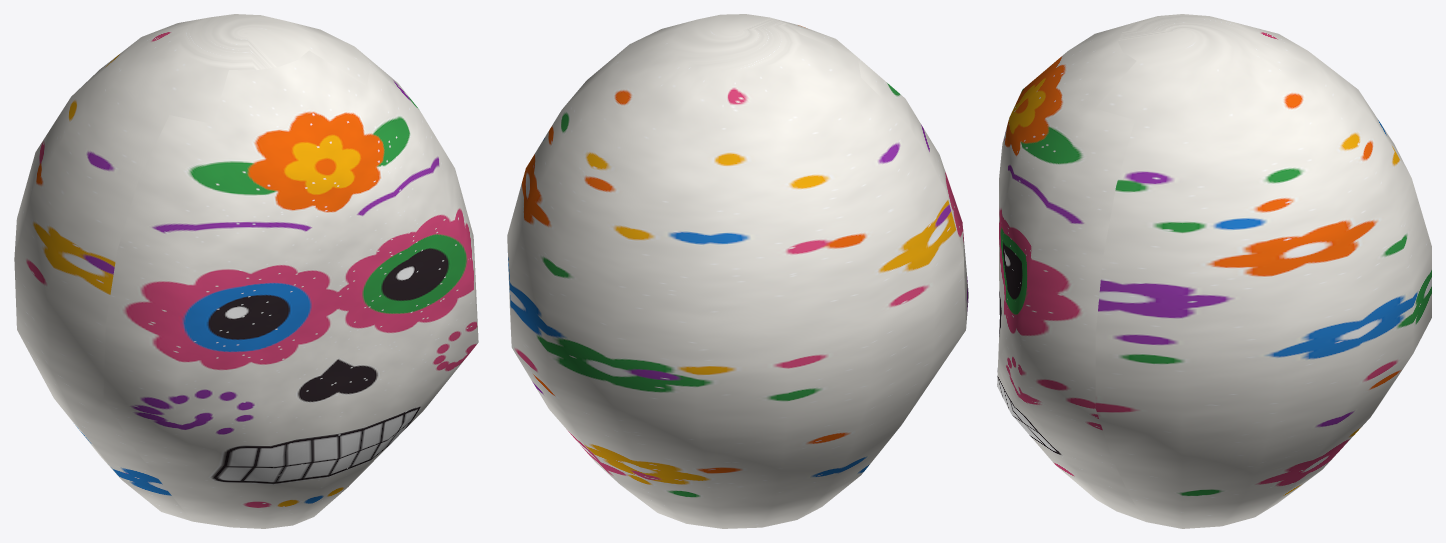
File: calaverita_azucar.gltf
The picture shows the model from 3 angles, left to right: view 1: azimuth 30°, elevation 25°; view 2: azimuth 150°, elevation 25°; view 3: azimuth 270°, elevation 25°; orthographic projection.
Visible parts, largest first — view 1: calaverita_azucar; view 2: calaverita_azucar; view 3: calaverita_azucar.
Part boxes in pixels (box(x1,y1,x2,y2)): calaverita_azucar: box(14, 14, 478, 528); calaverita_azucar: box(507, 14, 968, 528); calaverita_azucar: box(997, 14, 1431, 528).
Bounding box in the file's own units: 0.1 × 0.11 × 0.095.
Materials: 1 (1 with a texture image).
